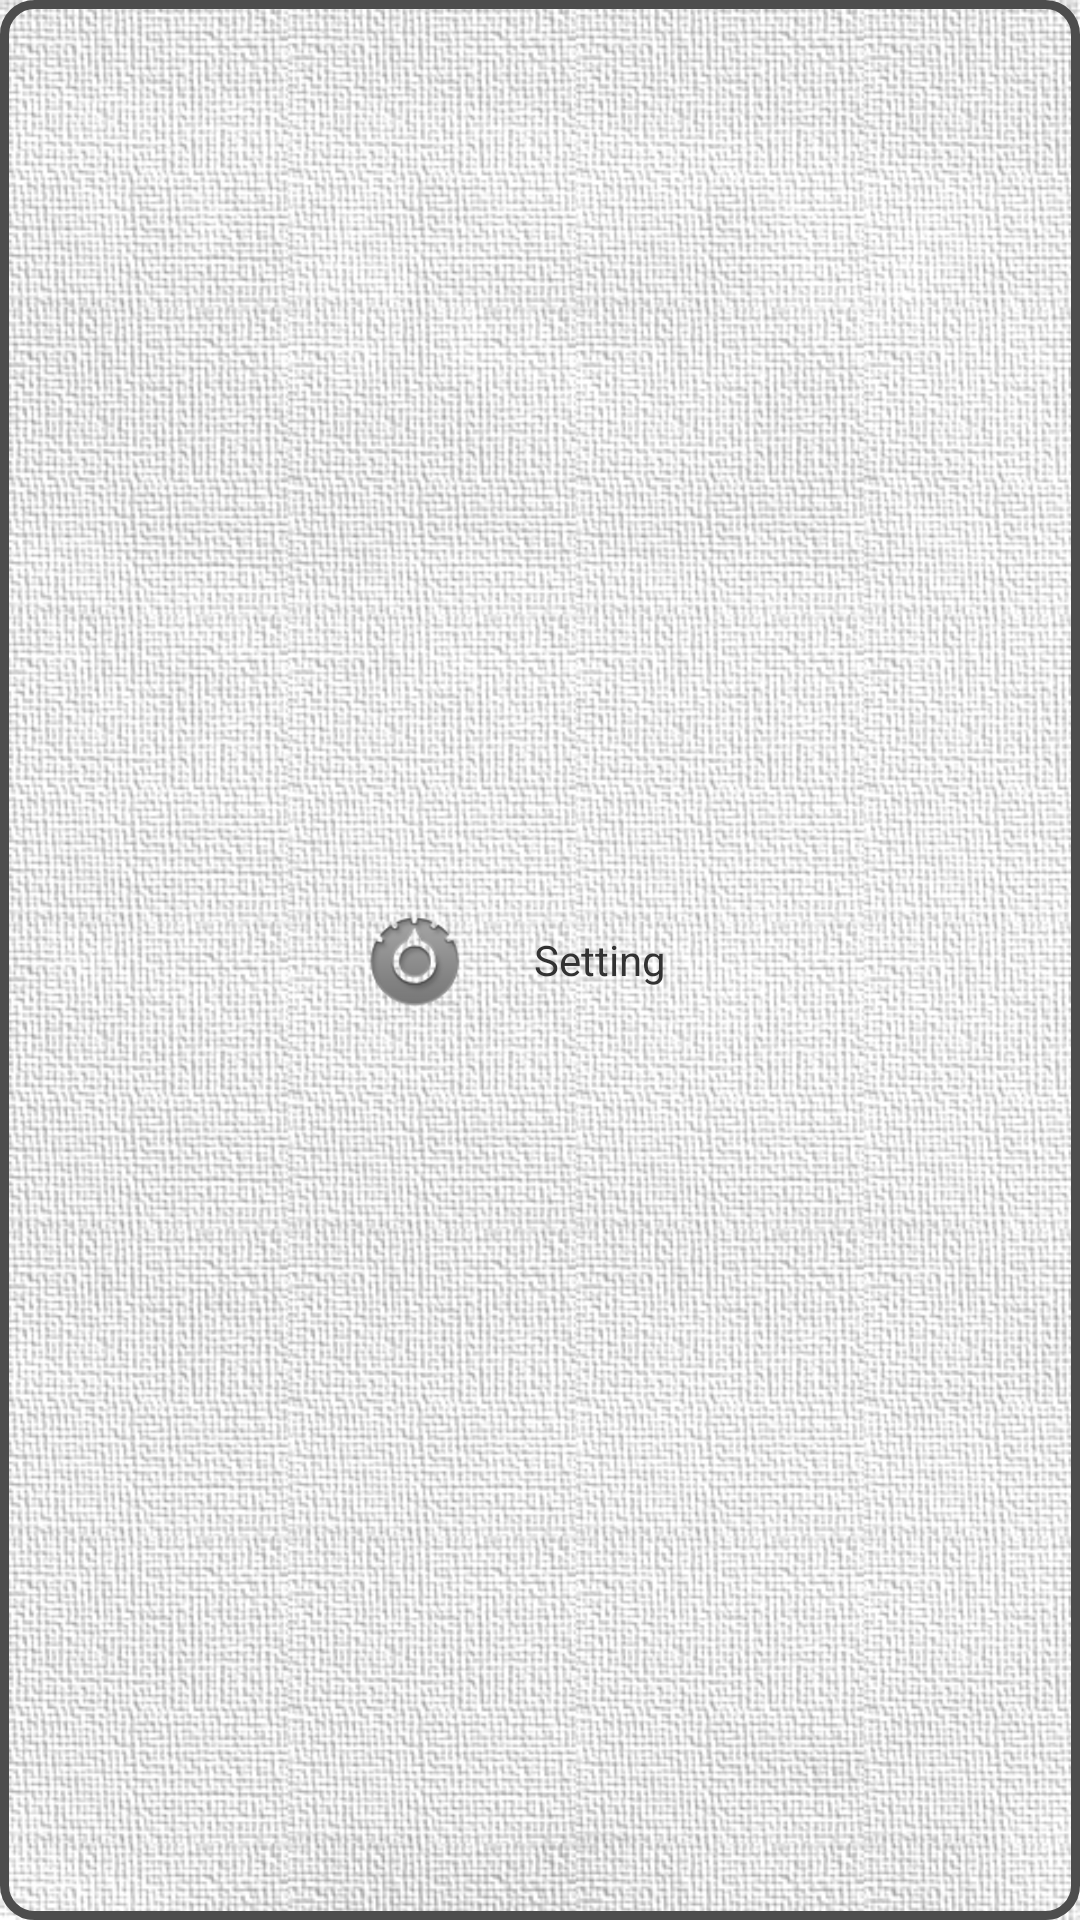

Icon bounding boxes for this 1080x1920 phone screenshot, format {"x1": x1, "y1": y1, "x2": x2, "y2": y2}:
preferences: {"x1": 354, "y1": 900, "x2": 474, "y2": 1020}
